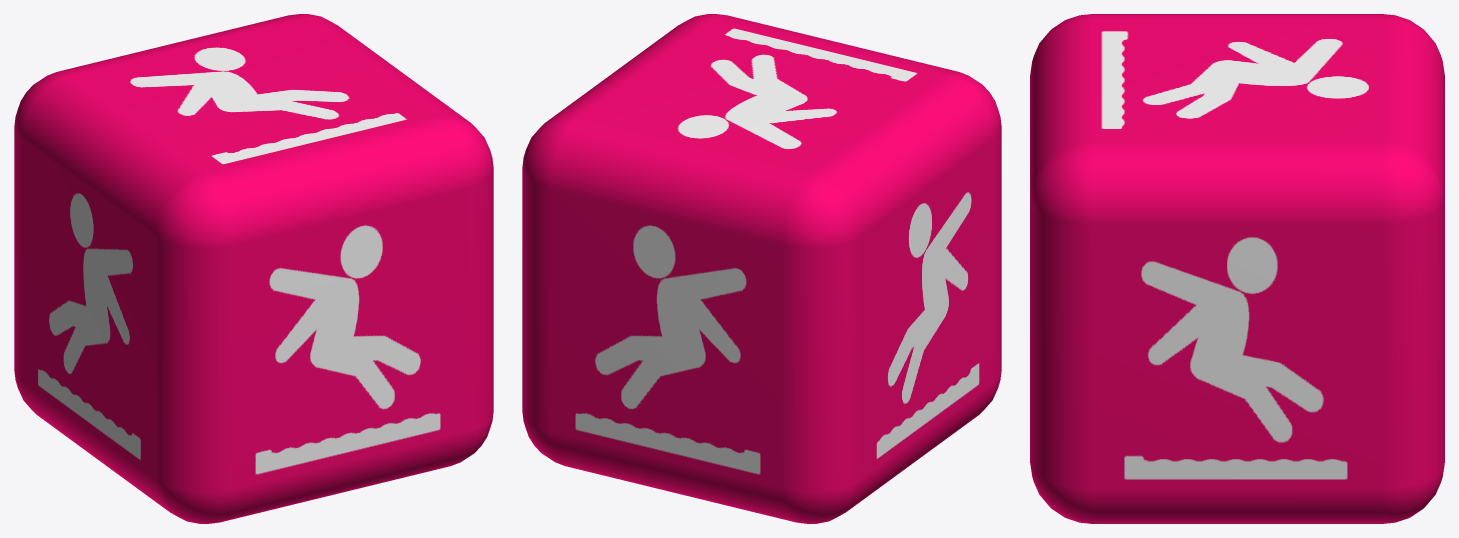
File: Power up cube.fbx
3 views of the same model, side by side, from view 1: azimuth 30°, elevation 25°; view 2: azimuth 150°, elevation 25°; view 3: azimuth 270°, elevation 25° (orthographic). The views are drawn at different scales.
Parts seen in each view (by area): view 1: pCube5; view 2: pCube5; view 3: pCube5.
Boxes of the visible parts, x1=… form: pCube5: x1=14, y1=14, x2=493, y2=523; pCube5: x1=522, y1=14, x2=1001, y2=523; pCube5: x1=1030, y1=14, x2=1444, y2=523.
Bounding box in the file's own units: 2 × 2 × 2.
